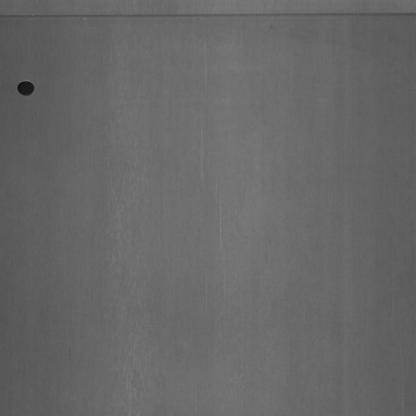punching_hole: (10, 72, 38, 105)
welding_line: (0, 3, 416, 35)
